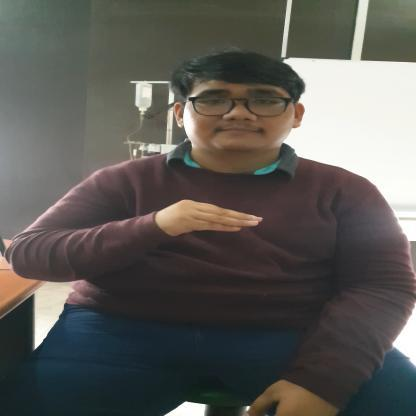Malam: (150, 198, 266, 235)
